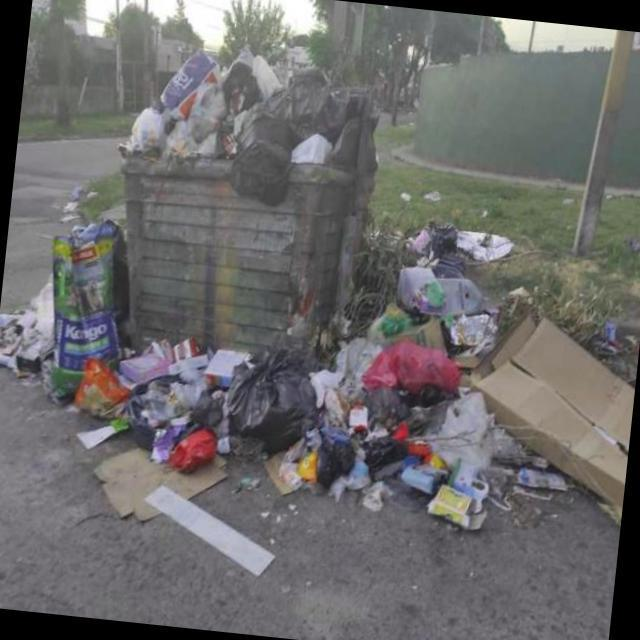garbage: (0, 209, 640, 620), (126, 45, 386, 215), (377, 210, 534, 270), (395, 182, 442, 204), (556, 189, 576, 204)
